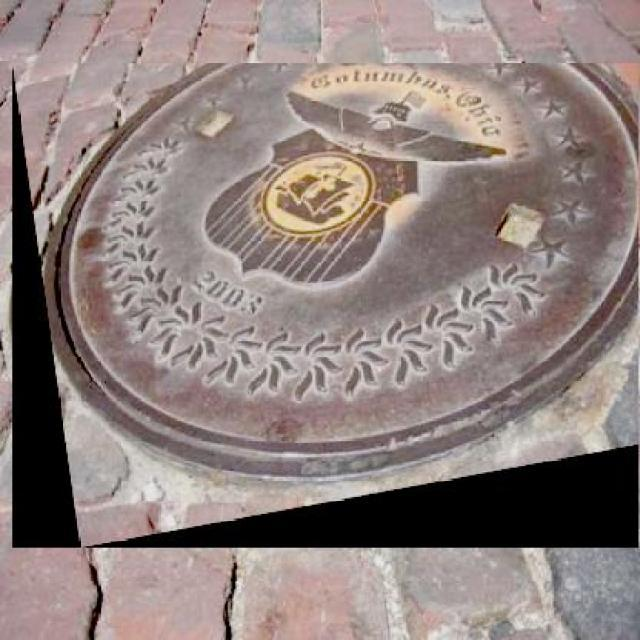Manhole: (12, 63, 638, 548)
